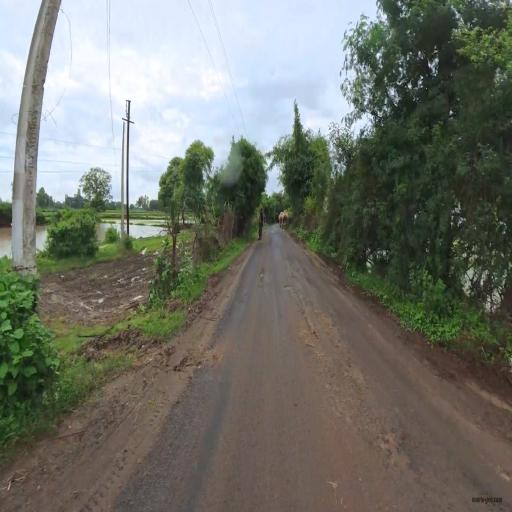ravelling: (283, 262, 421, 489)
